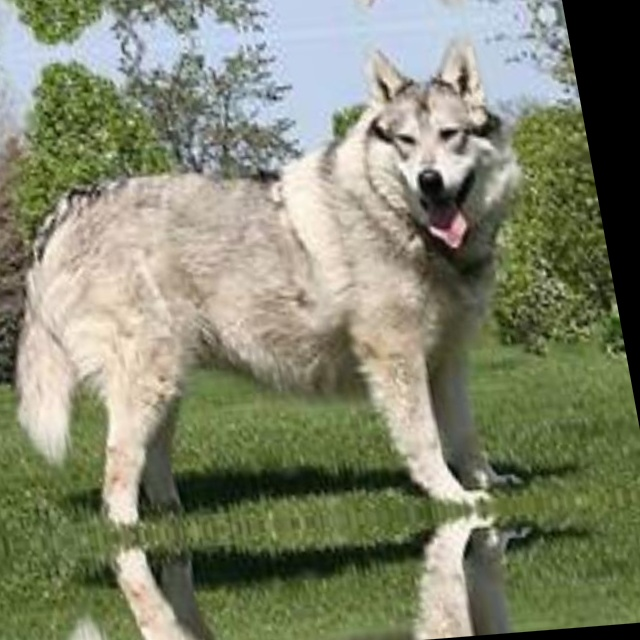dog: (0, 46, 587, 545), (13, 499, 610, 640), (0, 0, 495, 34)
